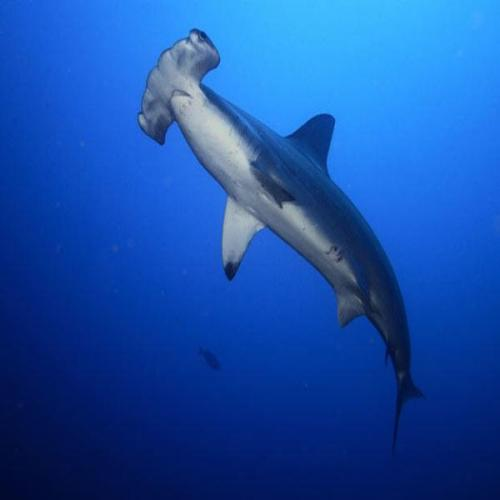shark-endangered: (138, 26, 428, 462)
